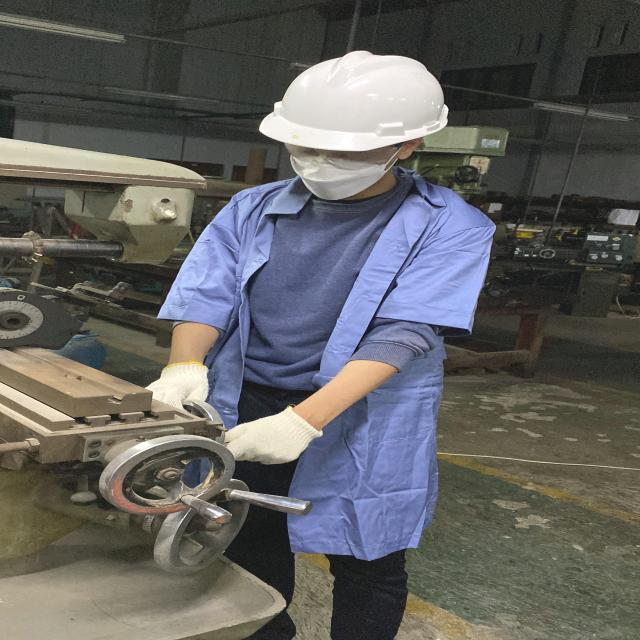face_mask: (280, 146, 390, 203)
glasses: (278, 139, 394, 171)
hand_glove: (208, 407, 325, 468), (146, 362, 231, 412)
head_helmet: (255, 51, 459, 145)
person: (115, 49, 502, 640)
